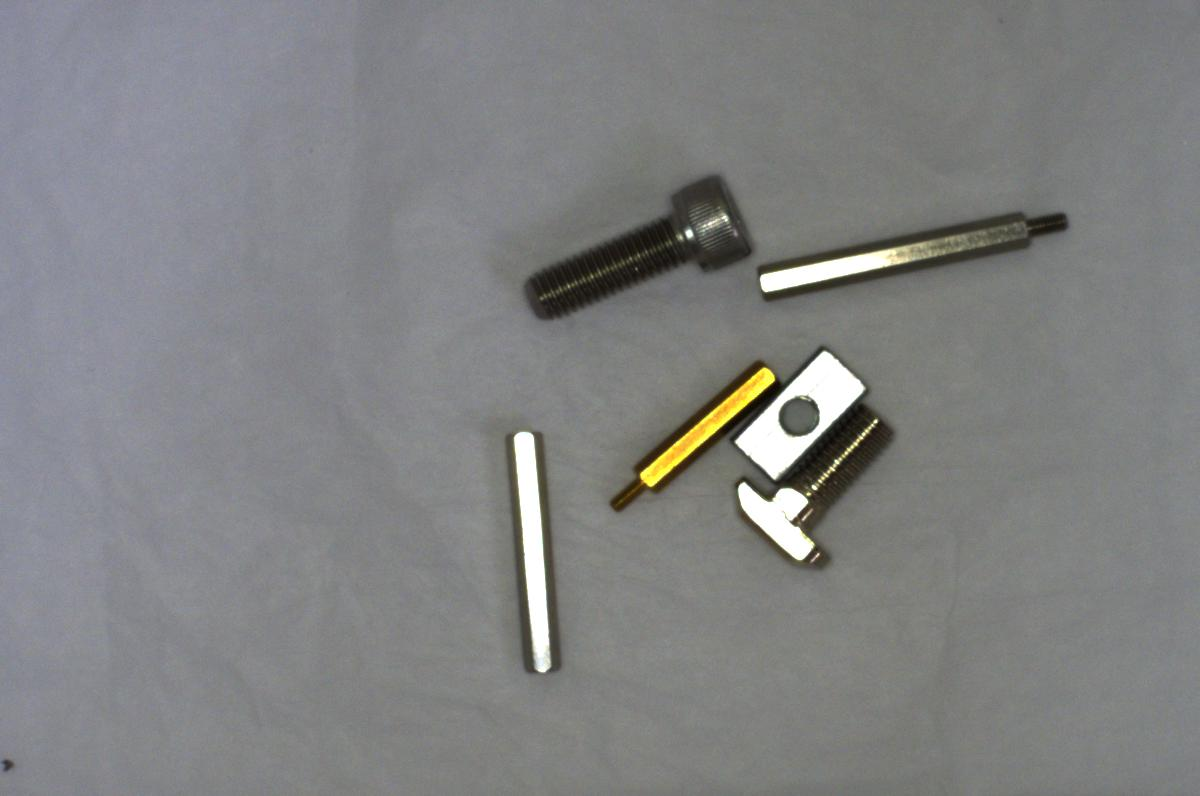Double hexagonal column: (499, 419, 571, 687)
Hexagon pillar: (595, 356, 778, 509)
Hexagon screw: (508, 161, 757, 319)
Hexagonal steel column: (755, 192, 1073, 299)
Rectangular nut: (727, 342, 878, 486)
T-shaped screw: (735, 401, 891, 578)
